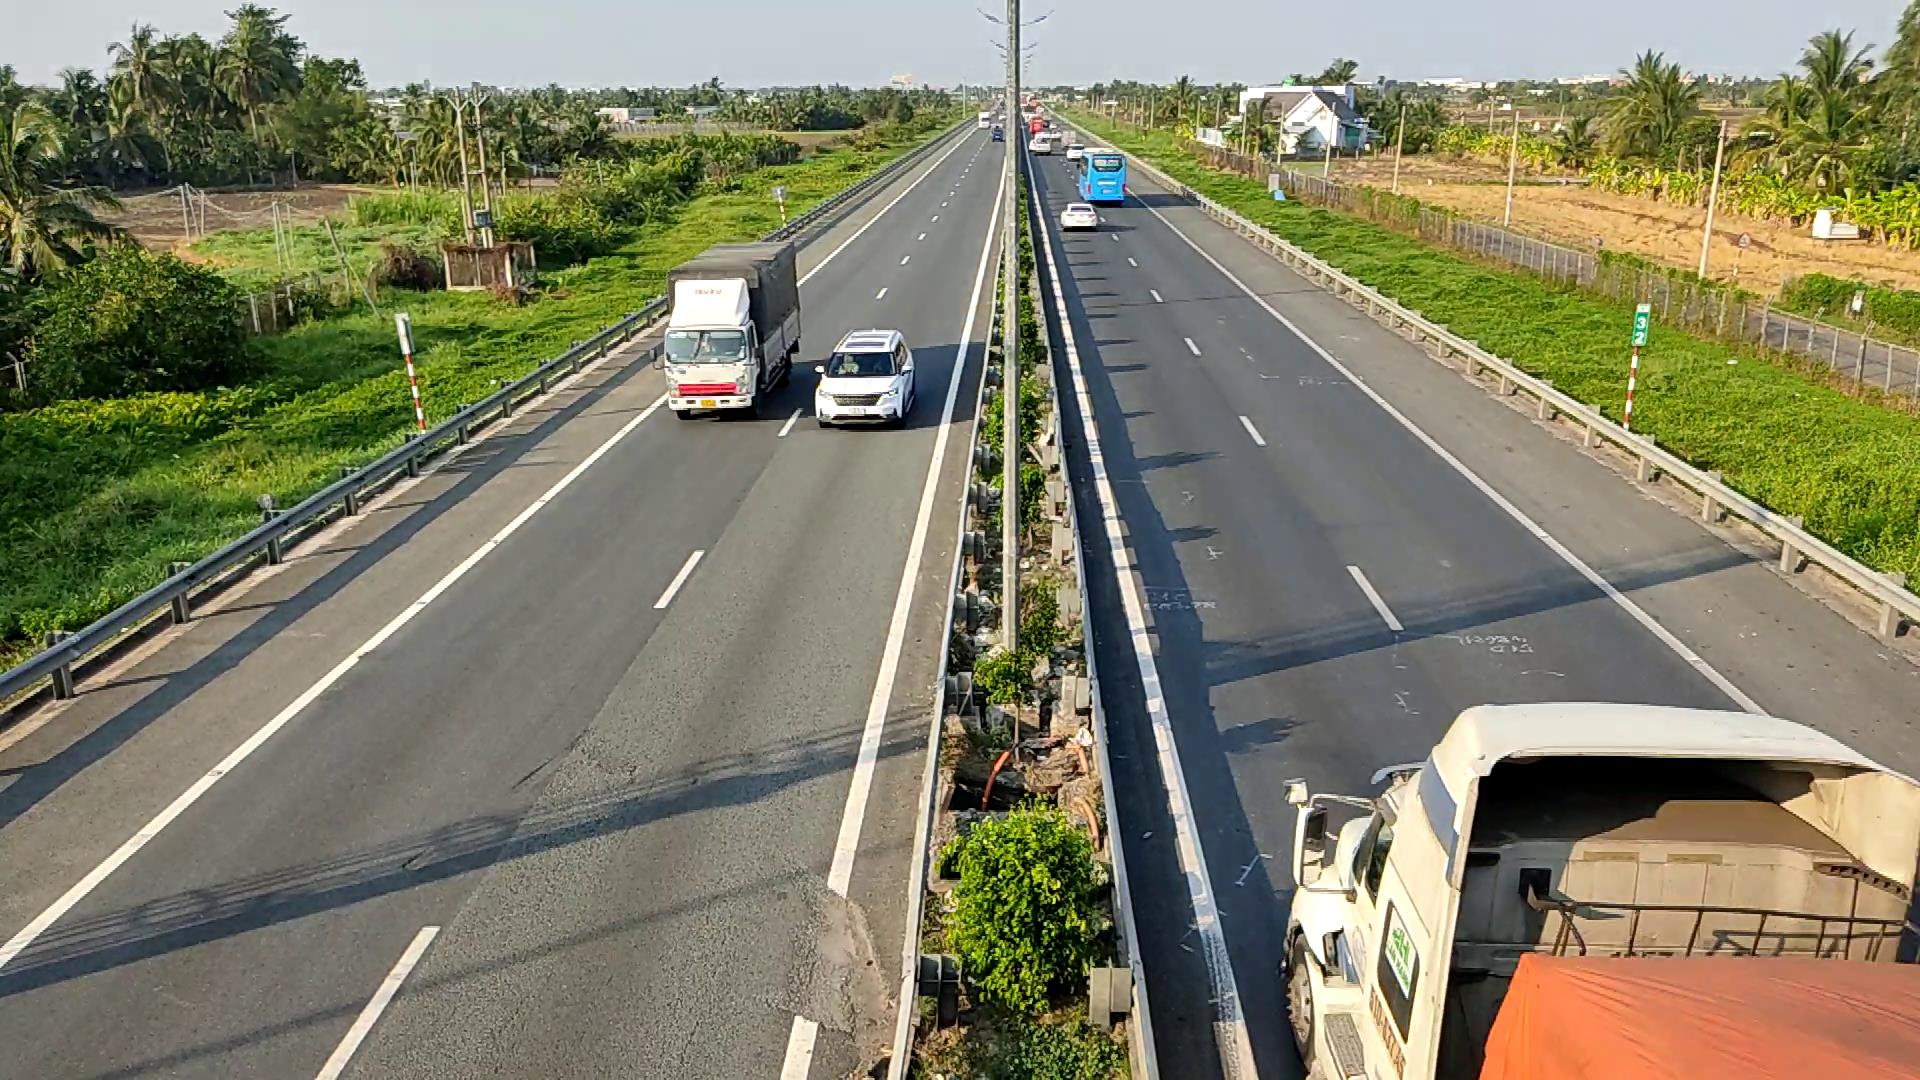car: (812, 327, 916, 429), (1060, 200, 1101, 229)
truck: (1276, 702, 1917, 1069), (657, 239, 802, 419)
